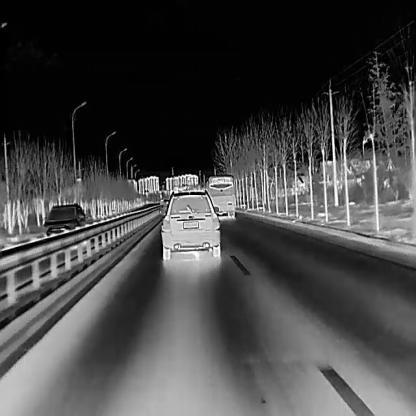car: (160, 188, 220, 260), (42, 202, 85, 238), (203, 174, 234, 219)
